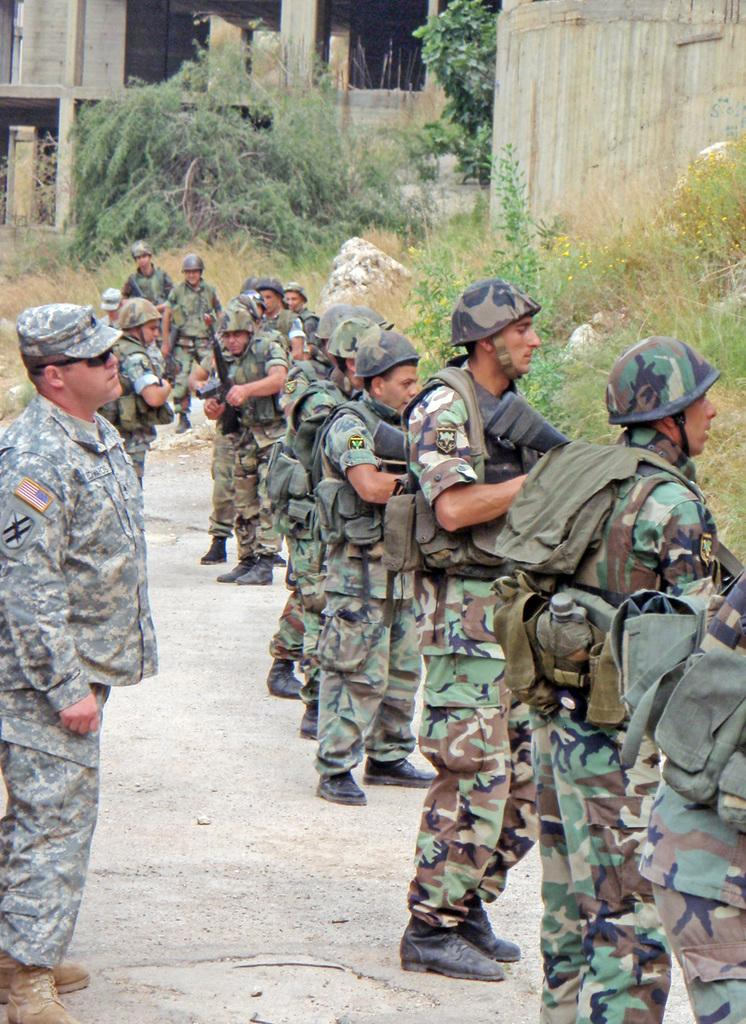Hat: (12, 296, 126, 362)
